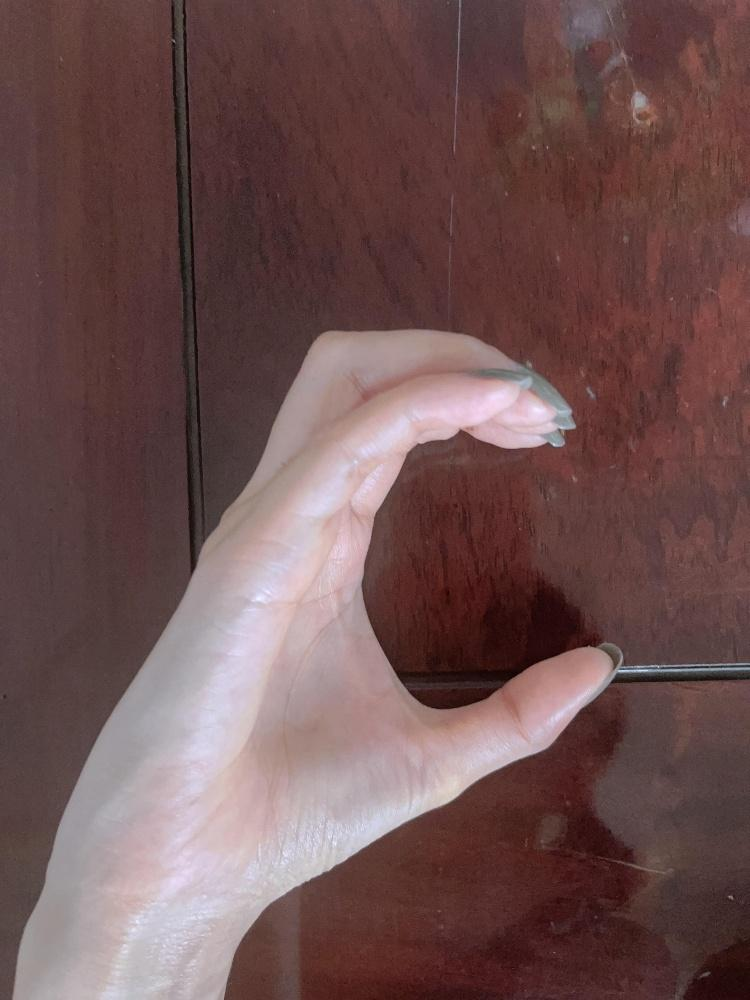c: (64, 319, 629, 901)
